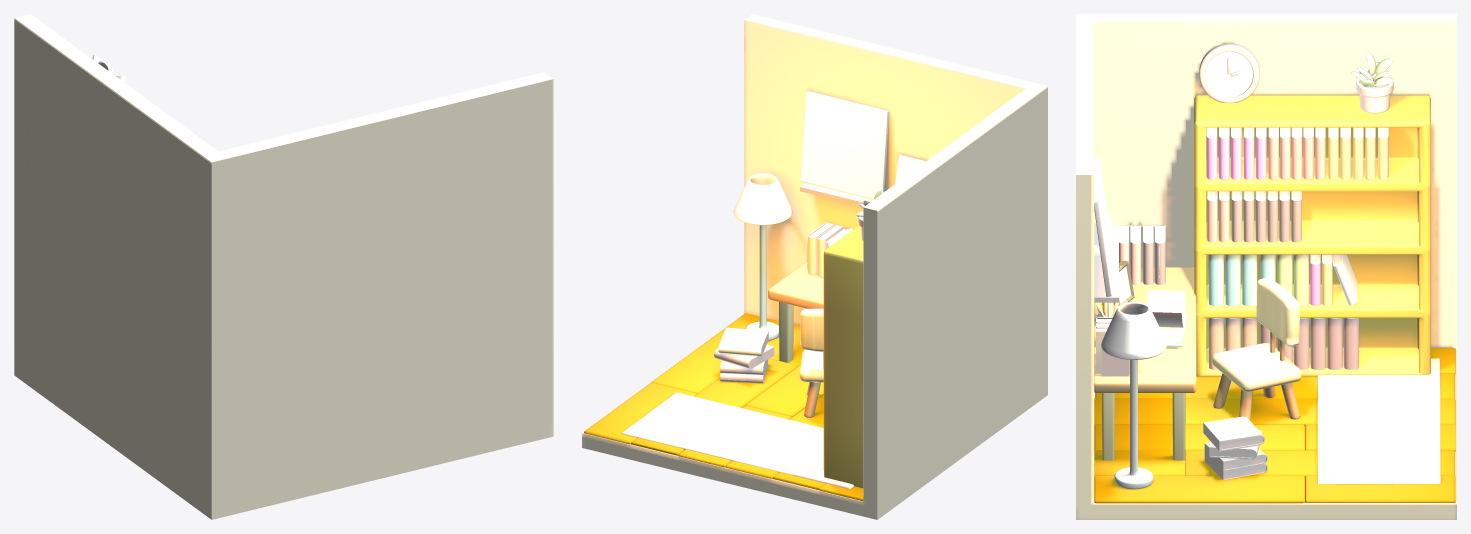
File: room_reading_with_frame.gltf
3 views of the same model, side by side, from view 1: azimuth 30°, elevation 25°; view 2: azimuth 150°, elevation 25°; view 3: azimuth 270°, elevation 25° (orthographic). The views are drawn at different scales.
Parts seen in each view (by area): view 1: room'.3; view 2: room'.3, floor, Cube.5, Cube.2, pp.3, Cylinder (×2), table chair-Mat, table chair-Mat.1, Cube.21, table chair-Mat.3, canvas.4-Mat.13, Cube.20 (+2 smaller); view 3: room'.3, Cube.5, floor, Cube.2, table chair-Mat.1 (×2), Cylinder (×3), table chair-Mat, clock.1, Cube.21 (×2), table chair-Mat.3, Plane, Cube.19 (×2) (+40 smaller).
Part boxes in pixels (x1,y1,x2,y2): room'.3: [14, 14, 553, 519]; room'.3: [582, 14, 1047, 519]; floor: [584, 313, 863, 501]; Cube.5: [823, 225, 863, 487]; Cube.2: [621, 392, 853, 488]; pp.3: [800, 93, 886, 198]; Cylinder (×2): [733, 173, 792, 340]; table chair-Mat: [799, 308, 823, 382]; table chair-Mat.1: [768, 261, 823, 308]; Cube.21: [718, 327, 768, 356]; table chair-Mat.3: [779, 302, 793, 362]; canvas.4-Mat.13: [801, 91, 925, 199]; Cube.20: [714, 344, 774, 368]; room'.3: [1076, 14, 1456, 519]; Cube.5: [1194, 95, 1430, 376]; floor: [1094, 348, 1455, 503]; Cube.2: [1317, 358, 1440, 484]; table chair-Mat.1 (×2): [1094, 267, 1300, 420]; Cylinder (×3): [1101, 77, 1393, 489]; table chair-Mat: [1193, 267, 1301, 391]; clock.1: [1199, 43, 1259, 102]; Cube.21 (×2): [1203, 127, 1264, 451]; table chair-Mat.3: [1101, 393, 1185, 460]; Plane: [1147, 289, 1188, 346]; Cube.19 (×2): [1204, 127, 1267, 471].
Size of the model in its own units: 10.5 by 10.5 by 10.5.
